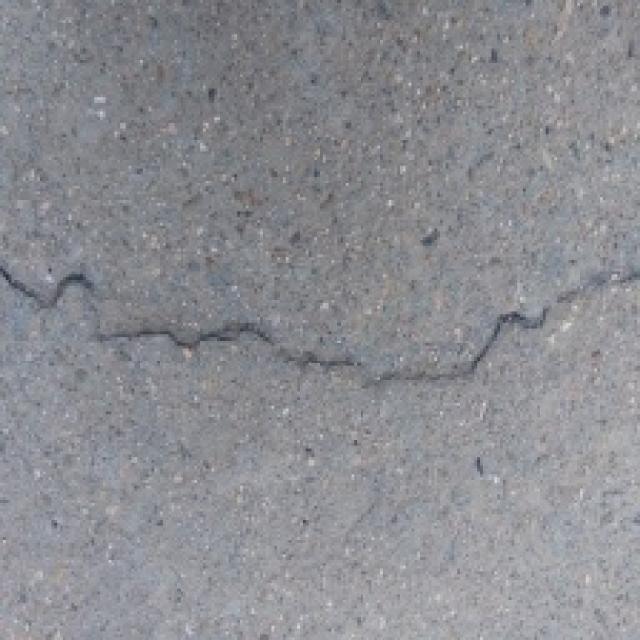crack: (0, 228, 640, 398)
